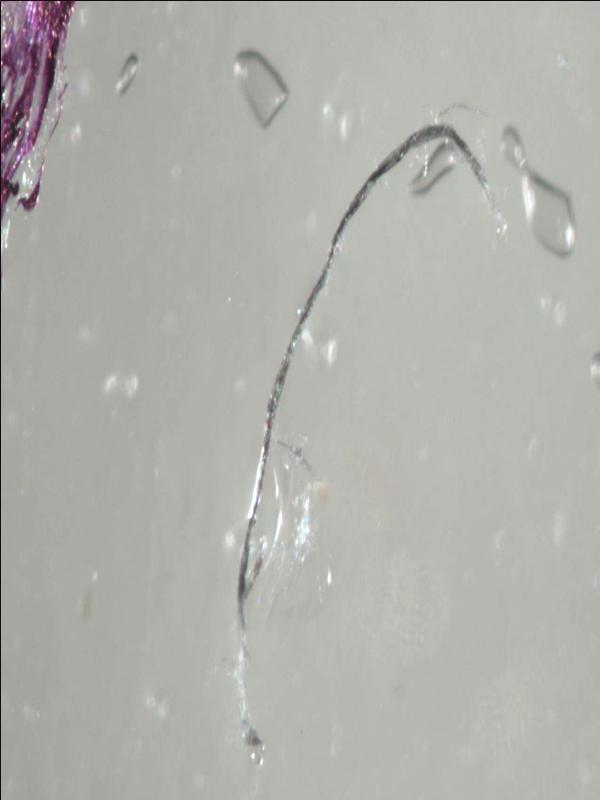microplastic: (232, 107, 575, 762), (0, 0, 75, 287)
